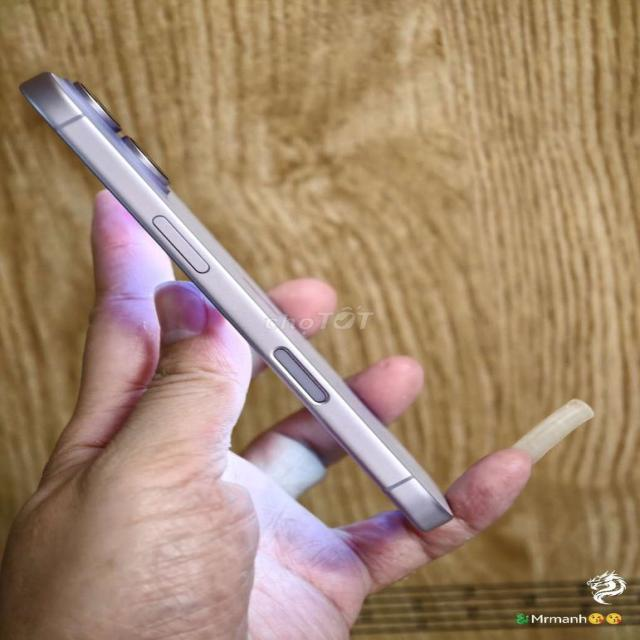gen_17: (22, 72, 451, 530)
